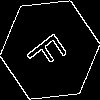F: (25, 25, 75, 77)
